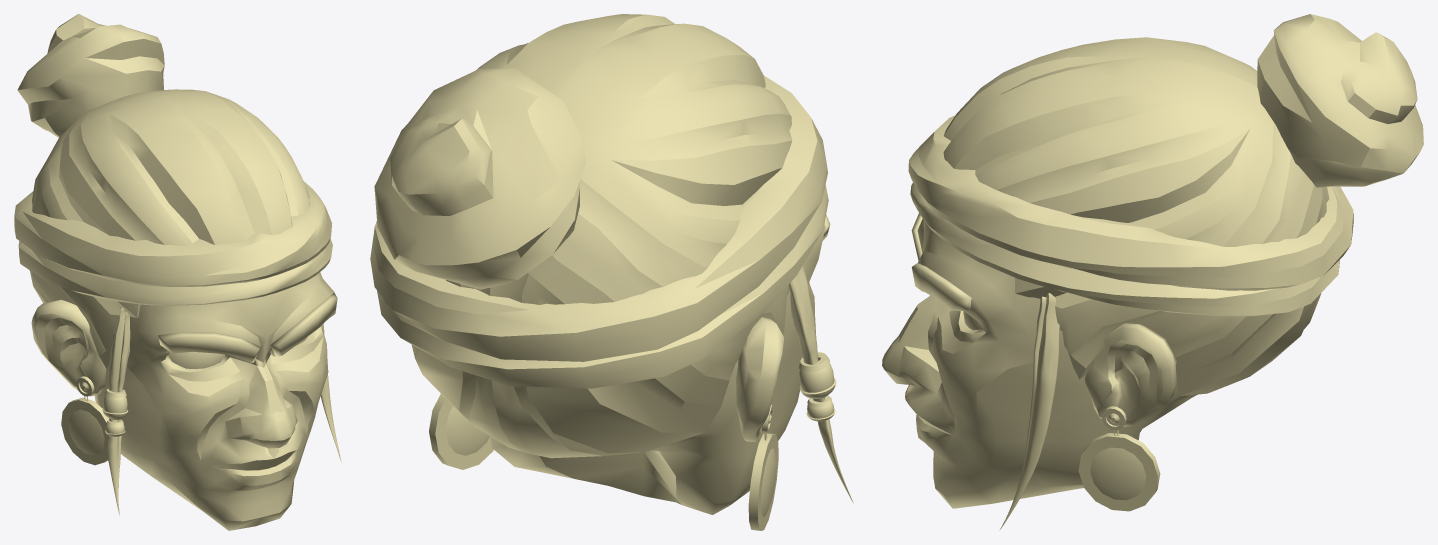
The model's file is head.fbx.
The picture shows the model from 3 angles, left to right: view 1: azimuth 30°, elevation 25°; view 2: azimuth 150°, elevation 25°; view 3: azimuth 270°, elevation 25°; orthographic projection. The views are drawn at different scales.
Visible parts, largest first — view 1: matte, metalic, softLight; view 2: matte, metalic; view 3: matte, metalic.
Boxes of the visible parts, x1,y1,x2,y2 form: matte: [14, 14, 341, 530]; metalic: [61, 376, 108, 465]; softLight: [168, 337, 307, 368]; matte: [370, 14, 853, 514]; metalic: [429, 394, 778, 530]; matte: [882, 14, 1423, 530]; metalic: [1078, 406, 1160, 511].
Size of the model in its own units: 718 by 1051 by 1009.
